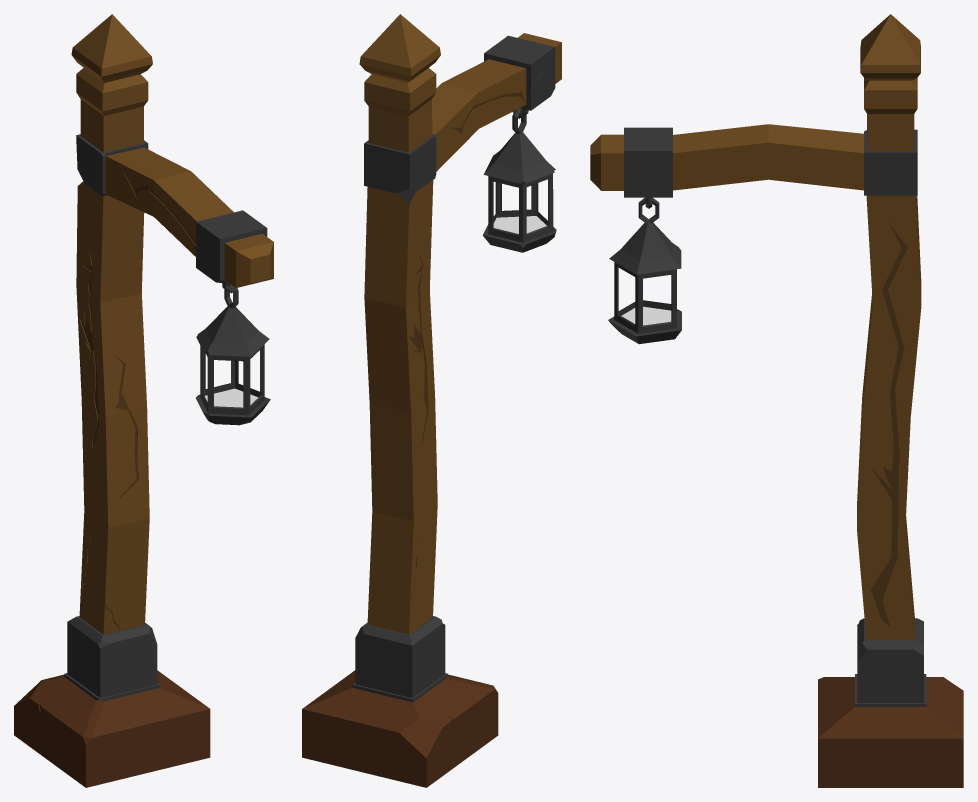
File: Lamppost (1).fbx
3 views of the same model, side by side, from view 1: azimuth 30°, elevation 25°; view 2: azimuth 150°, elevation 25°; view 3: azimuth 270°, elevation 25° (orthographic).
Visible parts, largest first — view 1: Lamppost, Lamppost_4, Lamppost_1; view 2: Lamppost, Lamppost_4, Lamppost_1; view 3: Lamppost, Lamppost_4, Lamppost_1.
Part boxes in pixels (left/top/right/bottom): Lamppost: left=14, top=14, right=210, bottom=787; Lamppost_4: left=105, top=147, right=273, bottom=287; Lamppost_1: left=196, top=306, right=270, bottom=425; Lamppost: left=302, top=14, right=498, bottom=787; Lamppost_4: left=432, top=33, right=561, bottom=171; Lamppost_1: left=482, top=131, right=556, bottom=252; Lamppost: left=818, top=14, right=963, bottom=787; Lamppost_4: left=590, top=124, right=863, bottom=197; Lamppost_1: left=608, top=219, right=681, bottom=344.
Bounding box in the file's own units: 0.4005 × 1.03 × 2.25.
